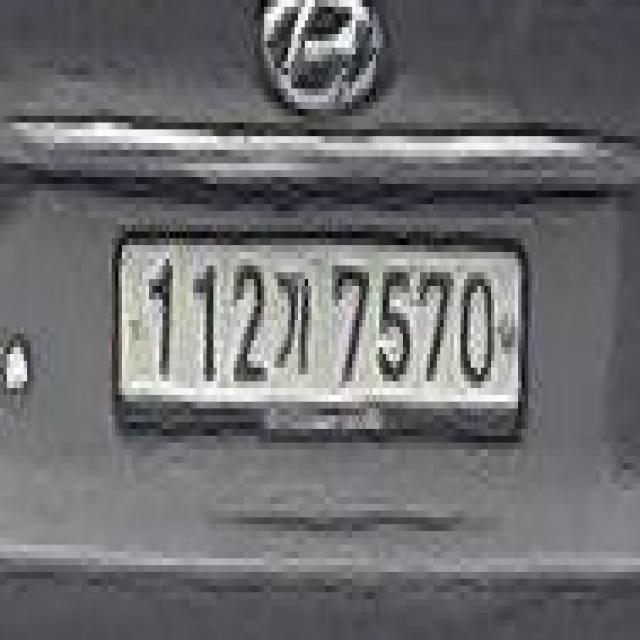illegal_plate: (107, 216, 530, 457)
